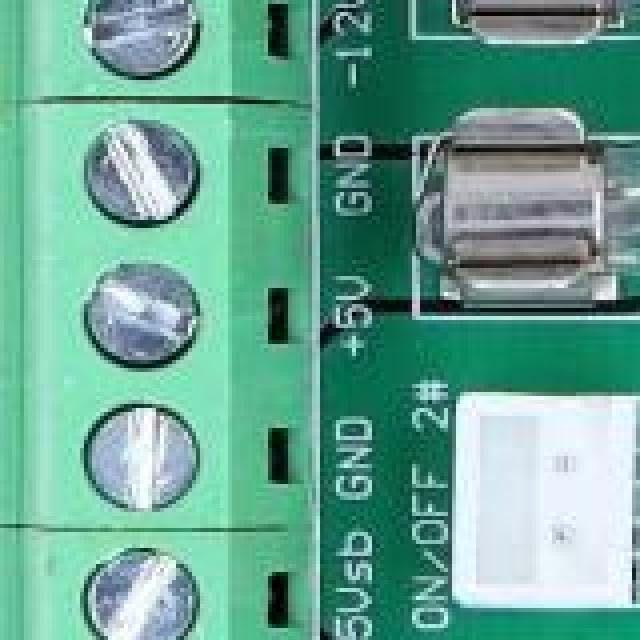connector: (20, 108, 300, 530), (444, 392, 640, 624), (20, 0, 320, 104), (24, 536, 304, 640)
fuse: (456, 132, 640, 320), (436, 0, 640, 48)
